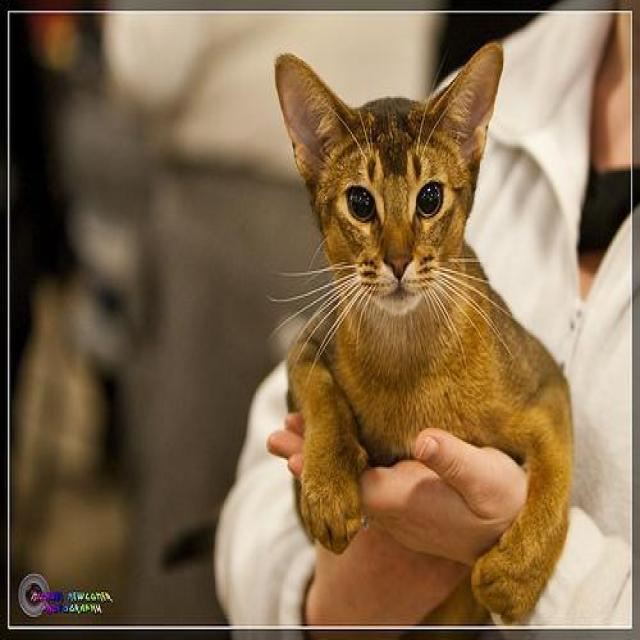cat: (274, 39, 574, 622)
